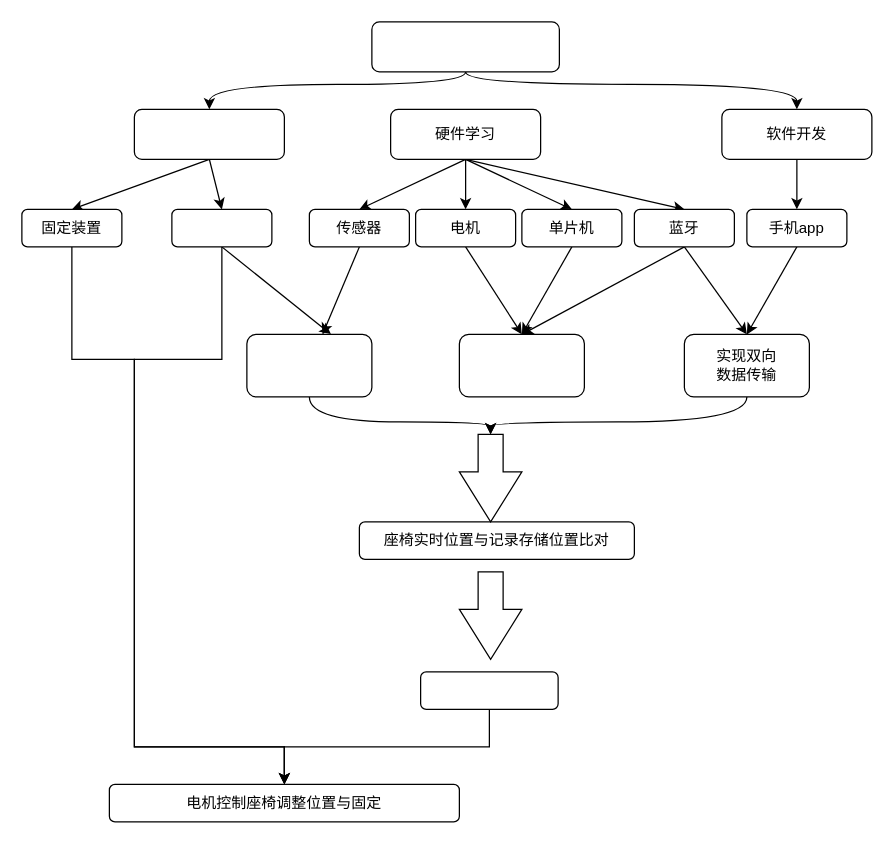
The diagram is 894 pixels wide and 844 high, and some of its shapes have lost their labels. The centre of each missing label's shape, as x and y in pixels:
"传动装置" goes at (221,227).
"传感器记录座椅 实时位置" goes at (309,365).
"文献查阅确定软硬件方案" goes at (465,46).
"机械装置" goes at (208,133).
"电路板 设计连接" goes at (521,365).
"键盘控制电机运动" goes at (488,690).
